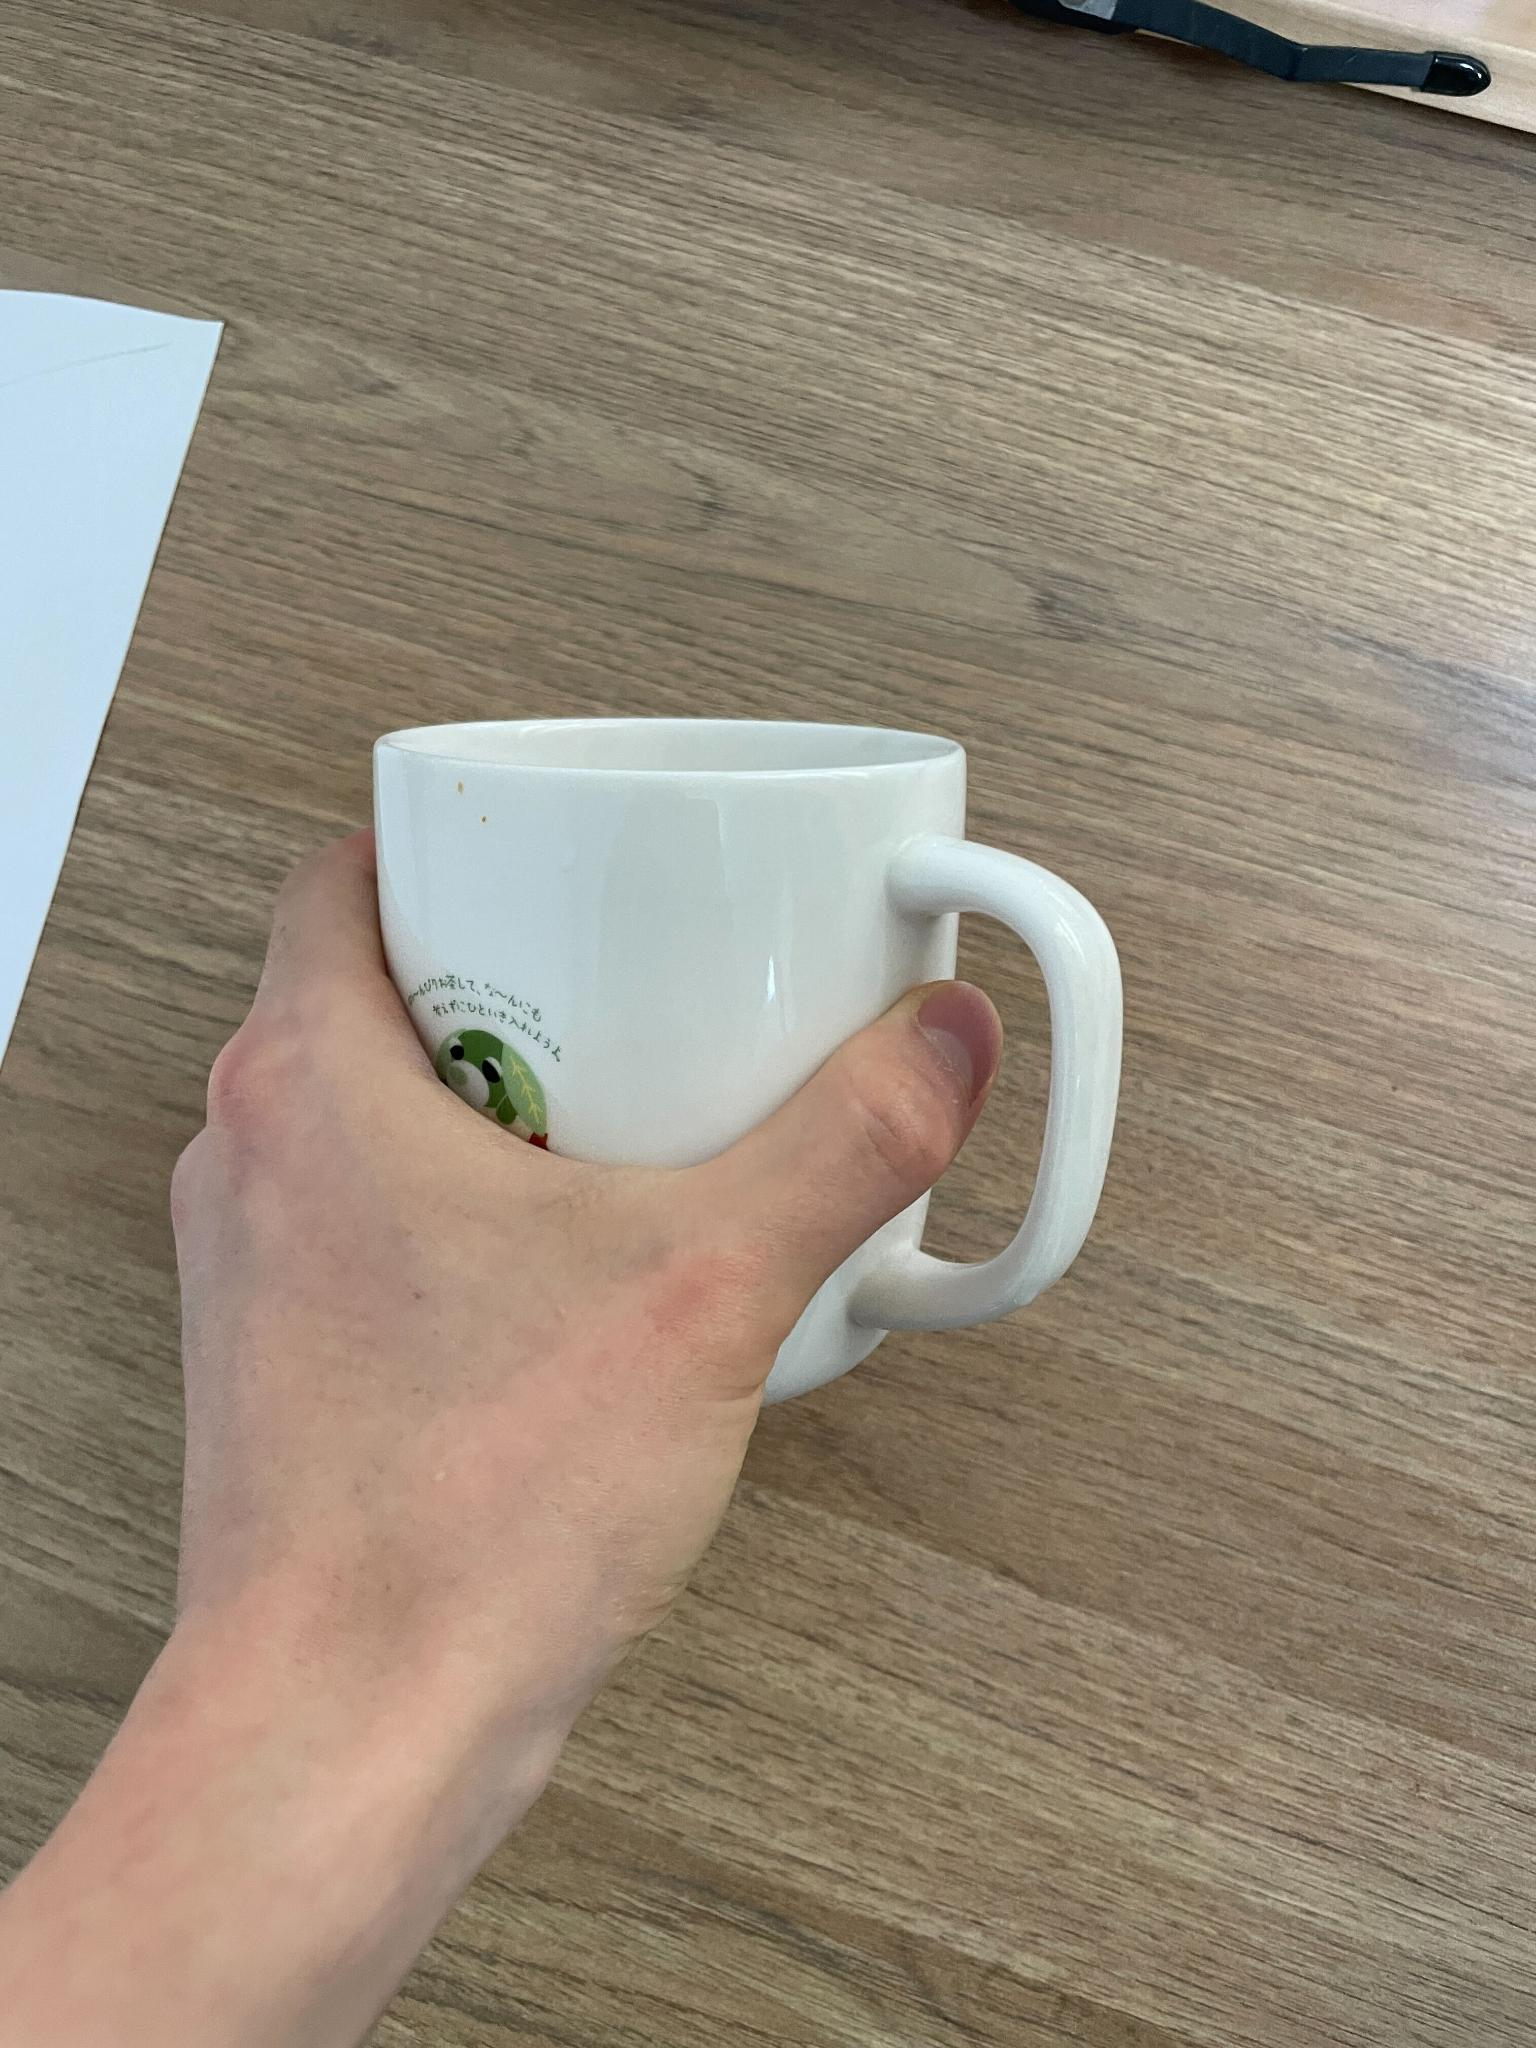cup: (140, 711, 1137, 1825)
